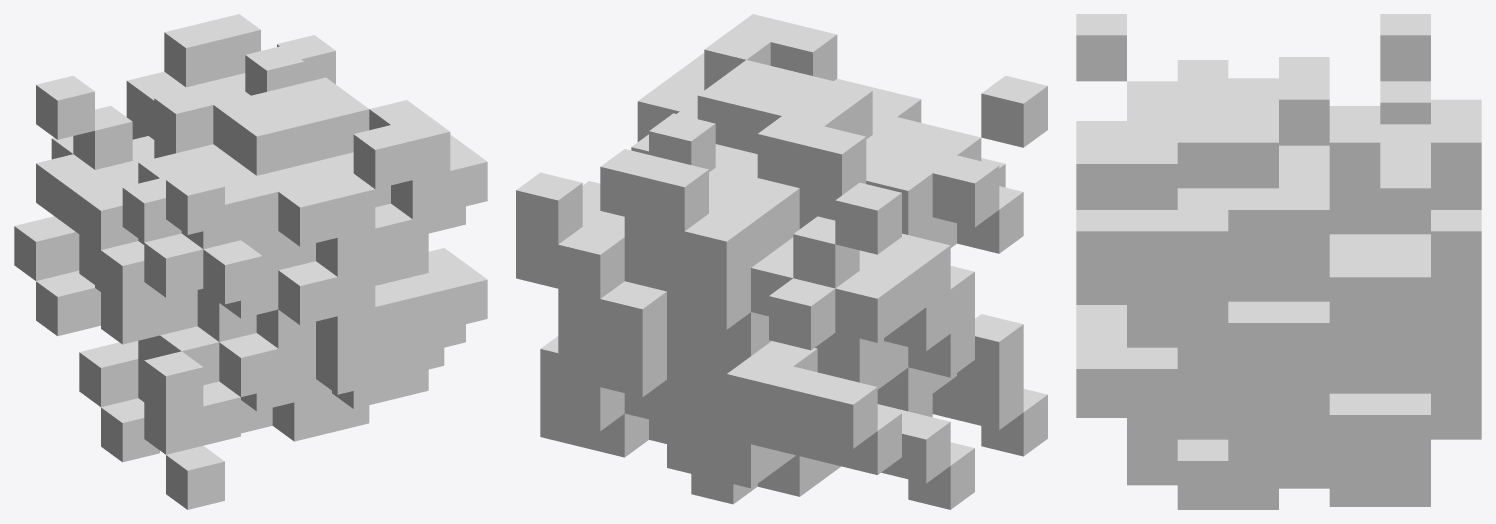
Rendered from paper.obj.
The picture shows the model from 3 angles, left to right: view 1: azimuth 30°, elevation 25°; view 2: azimuth 150°, elevation 25°; view 3: azimuth 270°, elevation 25°; orthographic projection. The views are drawn at different scales.
Bounding box in the file's own units: 0.8 × 0.8 × 0.8.
Materials: 1 (1 with a texture image).
